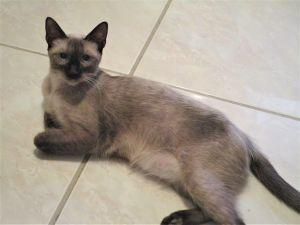siamese: (40, 14, 113, 91)
